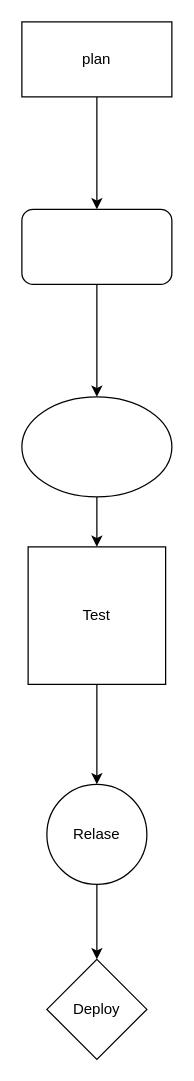
Image size: 194x1081. Some labels were removed from this diagram. Here are the shapes that lost their labels. From the top down, the centre of each, then its label:
At [96,246]: "Develop".
At [96,446]: "Bulid".
